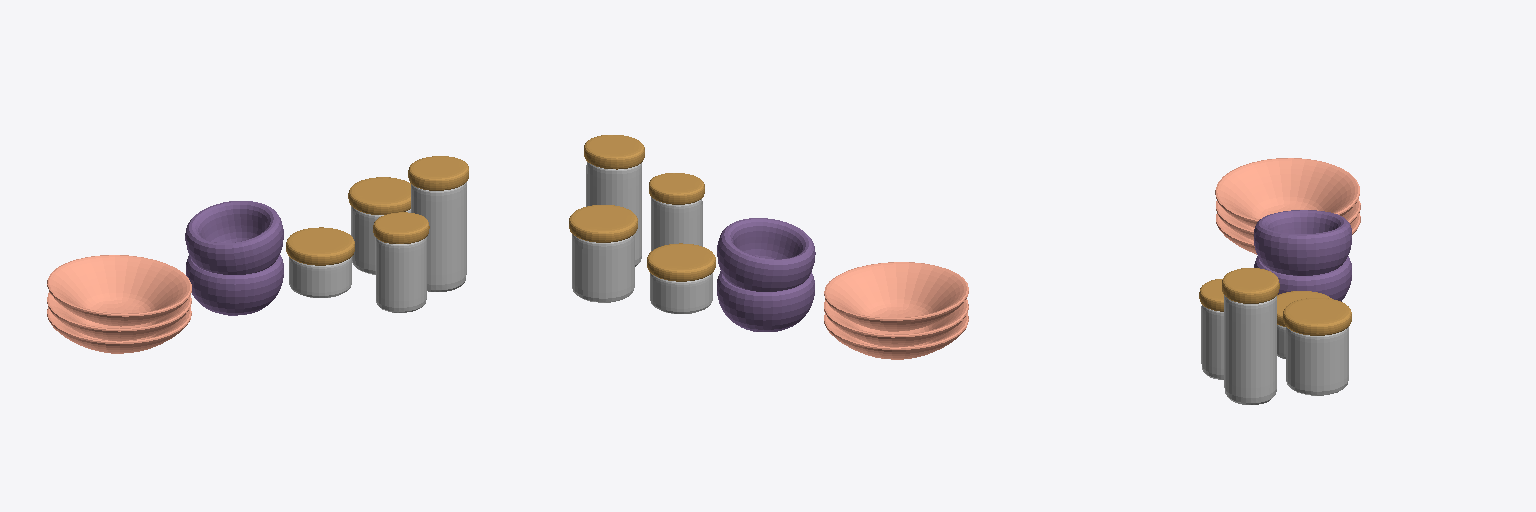
File: BSC_Kitchen_clutter_low_poly_asset.obj
3 renders of one model, left to right at view 1: azimuth 30°, elevation 25°; view 2: azimuth 150°, elevation 25°; view 3: azimuth 270°, elevation 25°, orthographic.
Parts seen in each view (by area): view 1: BSC_plate_3, BSC_kitchen_container_2, BSC_bowl_2, BSC_kitchen_container_3, BSC_kitchen_container_4, BSC_bowl_1, BSC_kitchen_container_1, BSC_plate_2, BSC_plate_1; view 2: BSC_plate_3, BSC_bowl_2, BSC_kitchen_container_1, BSC_kitchen_container_2, BSC_kitchen_container_4, BSC_kitchen_container_3, BSC_bowl_1, BSC_plate_2, BSC_plate_1; view 3: BSC_kitchen_container_2, BSC_plate_3, BSC_kitchen_container_1, BSC_bowl_2, BSC_kitchen_container_3, BSC_bowl_1, BSC_kitchen_container_4, BSC_plate_2, BSC_plate_1.
Part boxes in pixels (bbox=[...]): BSC_plate_3: bbox=[47, 255, 191, 326]; BSC_kitchen_container_2: bbox=[408, 156, 468, 291]; BSC_bowl_2: bbox=[185, 201, 283, 274]; BSC_kitchen_container_3: bbox=[373, 212, 429, 312]; BSC_kitchen_container_4: bbox=[286, 227, 354, 297]; BSC_bowl_1: bbox=[186, 255, 283, 315]; BSC_kitchen_container_1: bbox=[348, 177, 410, 274]; BSC_plate_2: bbox=[47, 292, 191, 340]; BSC_plate_1: bbox=[47, 307, 191, 353]; BSC_plate_3: bbox=[824, 262, 968, 331]; BSC_bowl_2: bbox=[717, 218, 815, 291]; BSC_kitchen_container_1: bbox=[569, 205, 637, 302]; BSC_kitchen_container_2: bbox=[584, 135, 644, 266]; BSC_kitchen_container_4: bbox=[647, 243, 715, 313]; BSC_kitchen_container_3: bbox=[649, 173, 704, 250]; BSC_bowl_1: bbox=[717, 271, 814, 331]; BSC_plate_2: bbox=[824, 299, 968, 346]; BSC_plate_1: bbox=[824, 313, 968, 359]; BSC_kitchen_container_2: bbox=[1222, 268, 1279, 404]; BSC_plate_3: bbox=[1215, 158, 1359, 227]; BSC_kitchen_container_1: bbox=[1283, 298, 1351, 395]; BSC_bowl_2: bbox=[1254, 210, 1351, 275]; BSC_kitchen_container_3: bbox=[1199, 279, 1223, 379]; BSC_bowl_1: bbox=[1254, 256, 1351, 301]; BSC_kitchen_container_4: bbox=[1277, 291, 1331, 358]; BSC_plate_2: bbox=[1216, 199, 1360, 240]; BSC_plate_1: bbox=[1216, 213, 1360, 254].
Bounding box in the file's own units: 1.21 × 0.3455 × 0.4324.